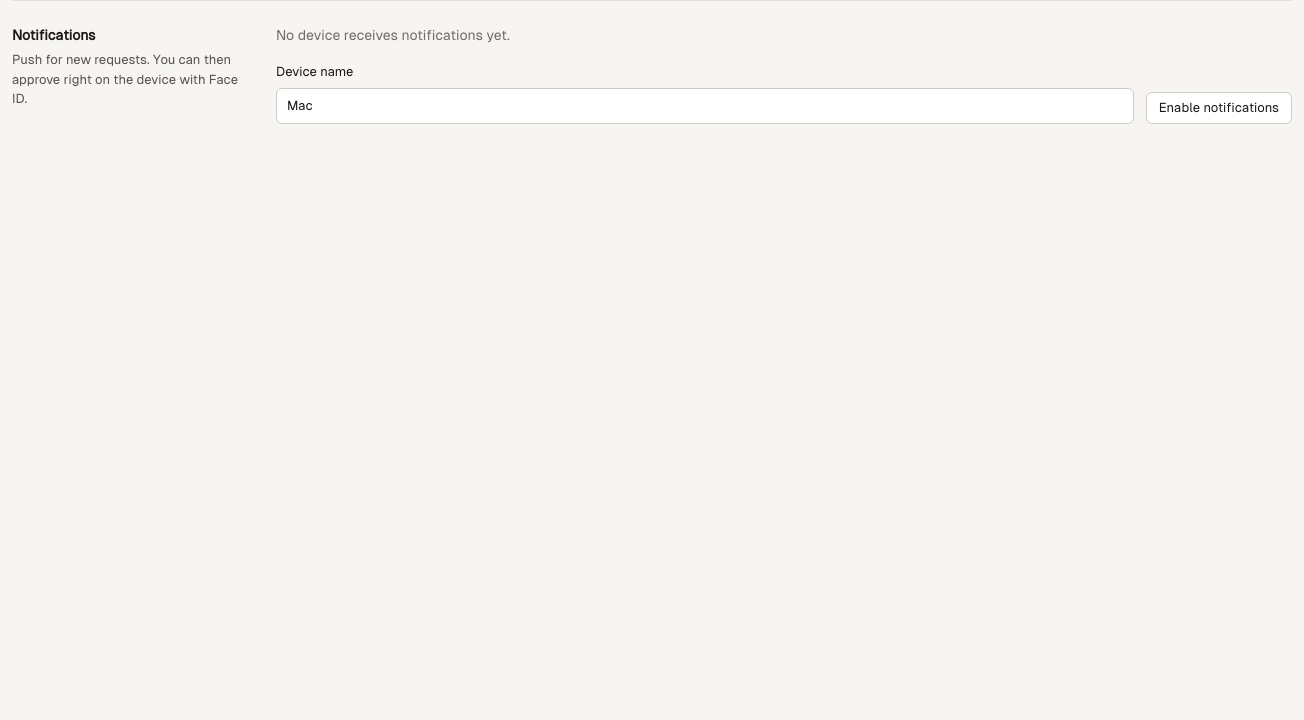
Scenario: PushSection › subscribes on click: permission → VAPID key → pushManager.subscribe → POST
Expected: the text "No device receives notifications yet." is shown, [276,27,510,43]
Step 1. Replace the text in the field labelled "Device name" with "MacBook" → (705, 106), box [287,96,1123,115]
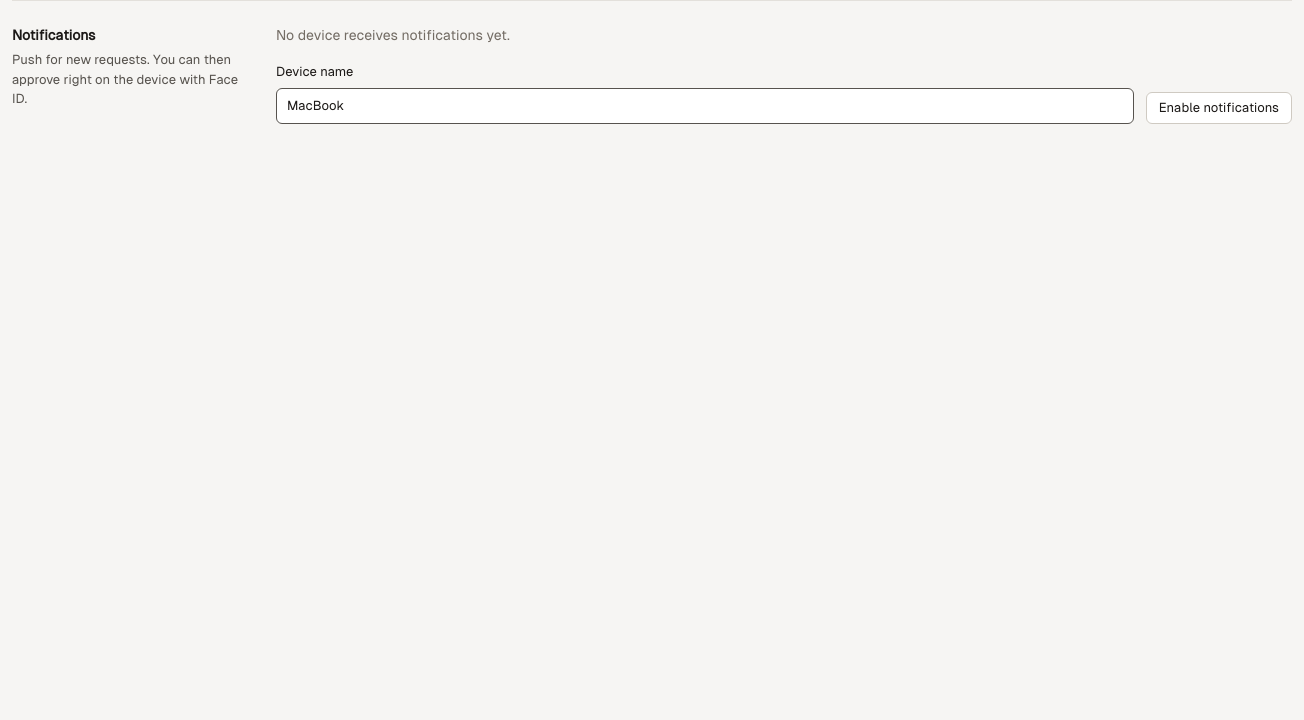
Step 2. Click the button "Enable notifications" → (1219, 108), box [1146,92,1292,124]
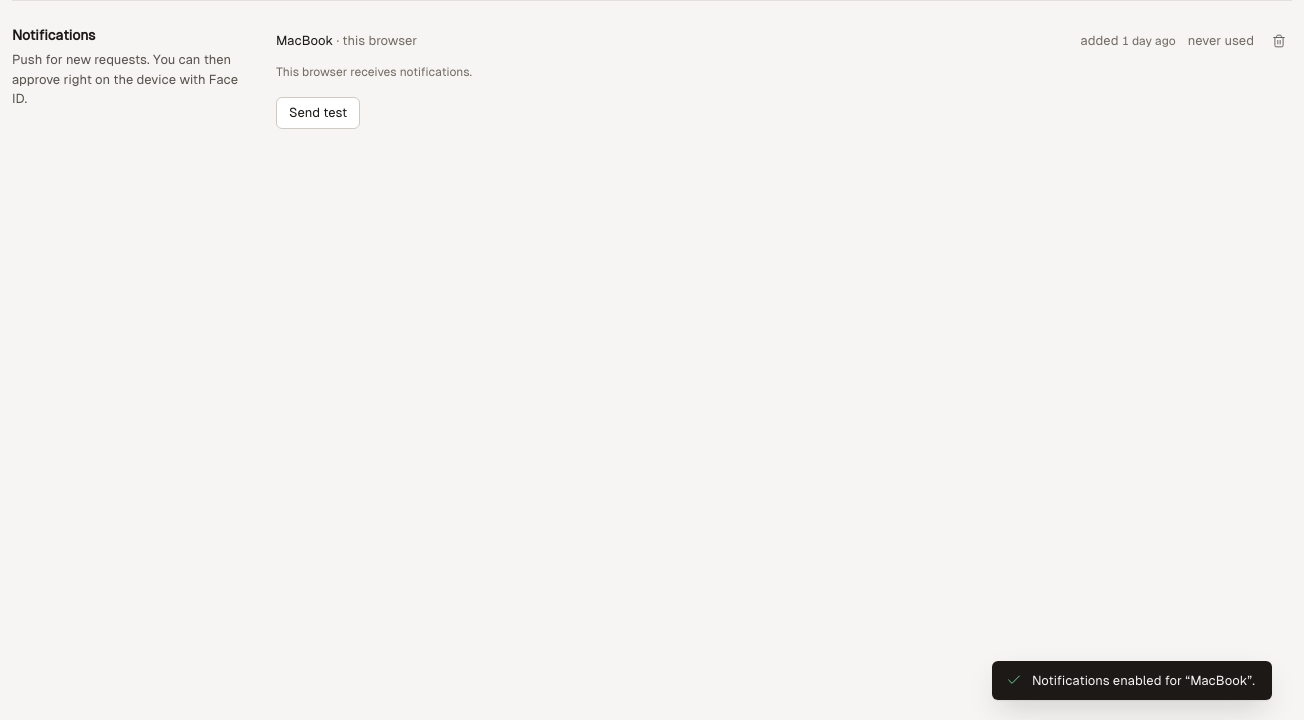
Now the text "Notifications enabled for “MacBook”." is shown, box [1032,670,1262,690]
Now the list named "Devices with notifications" shows "MacBook · this browser", box [276,25,1292,57]
Now the list named "Devices with notifications" shows "never used", box [1188,33,1254,48]
